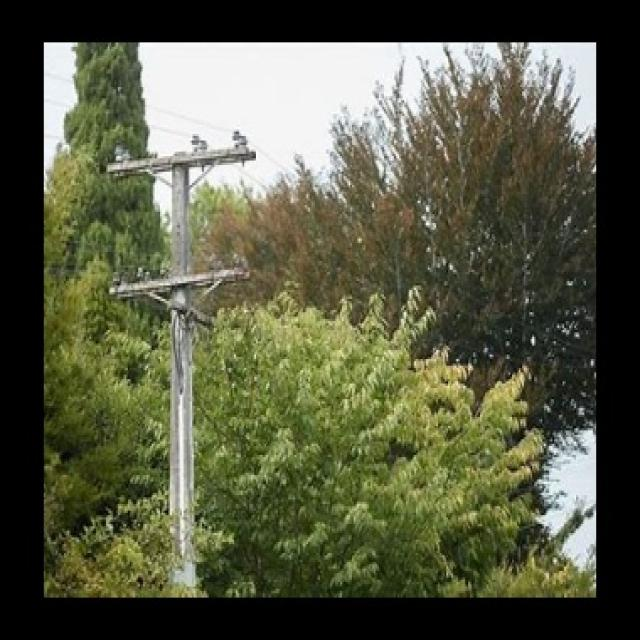utility poles: (89, 83, 261, 599)
